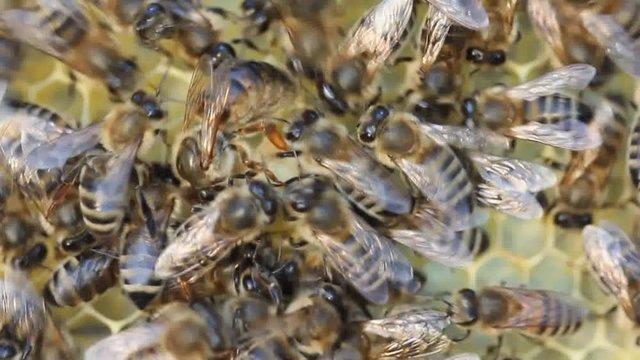Queen-Bee: (344, 76, 486, 245)
worker-bee: (23, 90, 164, 242), (282, 174, 412, 303), (555, 138, 639, 322), (461, 63, 607, 151), (154, 180, 279, 281), (362, 196, 487, 267), (452, 286, 600, 336)
